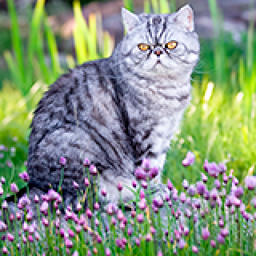cat: (24, 4, 197, 207)
